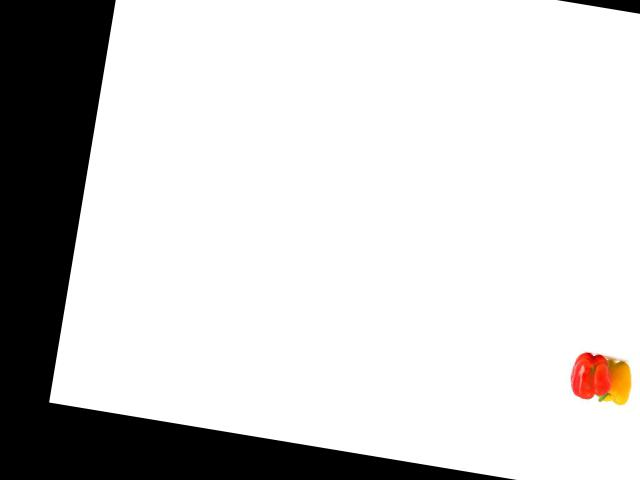bell_pepper: (592, 354, 636, 405)
